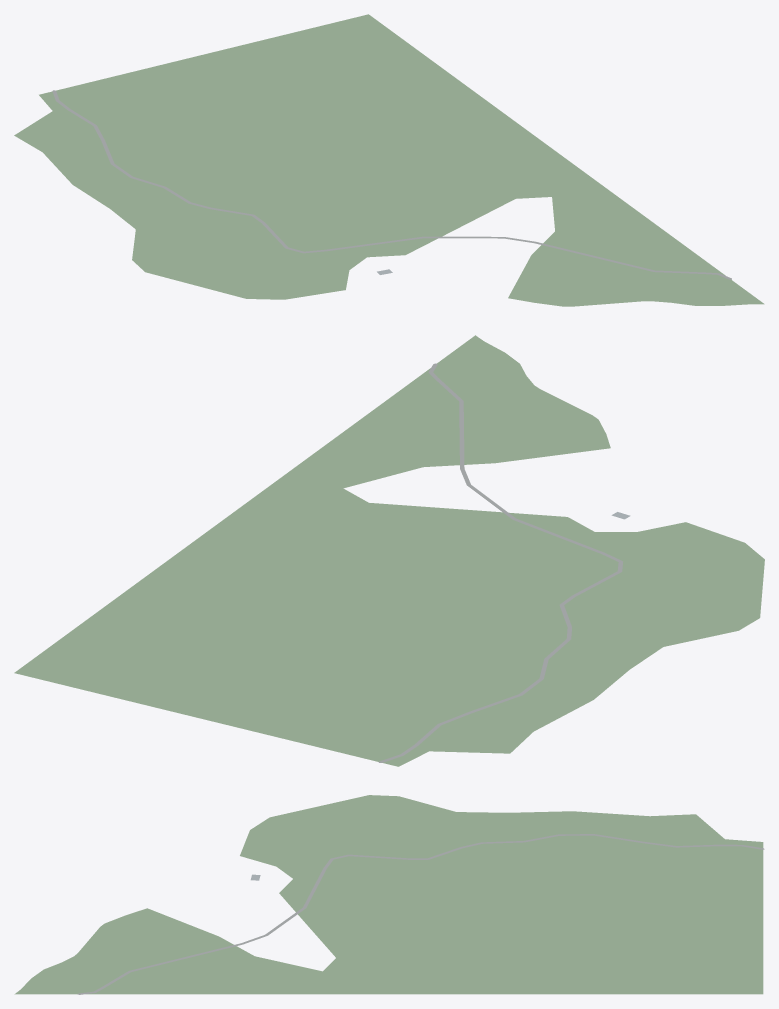
The model's file is -24_-15-known-fine.glb.
3 views of the same model, one above another, from view 1: azimuth 30°, elevation 25°; view 2: azimuth 150°, elevation 25°; view 3: azimuth 270°, elevation 25° (orthographic). The views are drawn at different scales.
Size of the model in its own units: 387 by 0.15 by 614.
